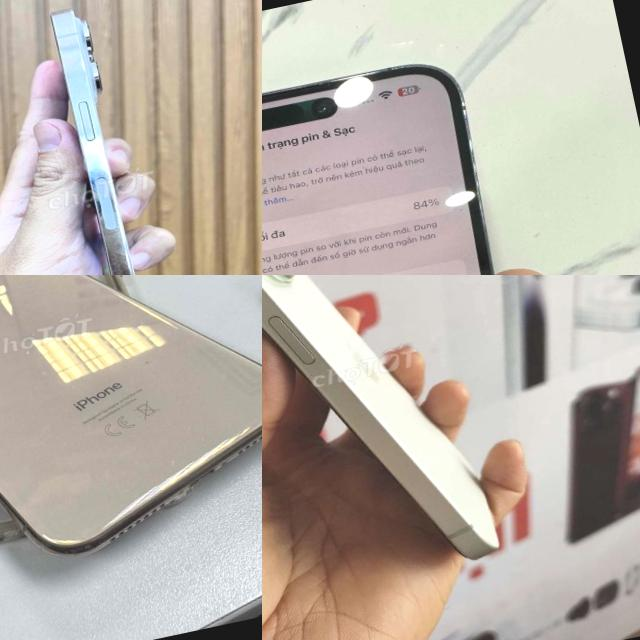gen_14: (262, 43, 561, 275), (34, 0, 168, 275)
gen_15: (262, 275, 536, 615)
gen_x_xs: (0, 275, 262, 554)
scratch: (64, 54, 105, 145), (435, 177, 497, 226), (96, 220, 148, 275), (262, 69, 339, 100), (174, 414, 202, 440), (158, 450, 186, 474), (193, 432, 212, 446)
screen_defect: (312, 62, 392, 124)
